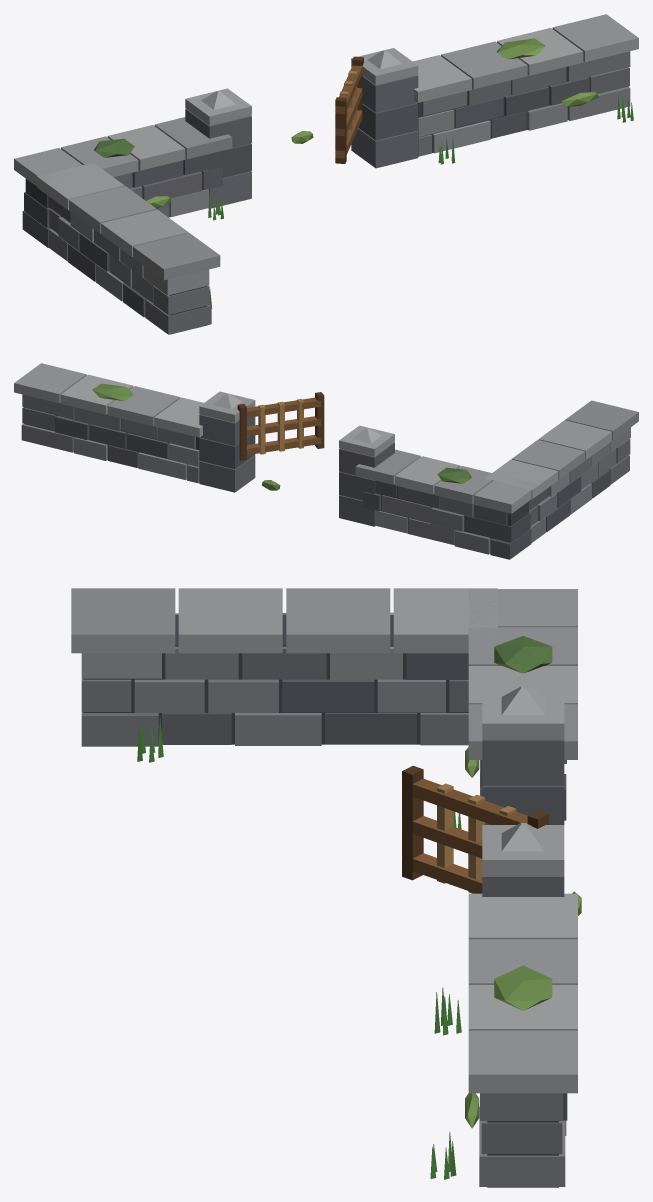
The model's file is Decor_Beanstalk_FieldWall.fbx.
3 renders of one model, top to bottom at view 1: azimuth 30°, elevation 25°; view 2: azimuth 150°, elevation 25°; view 3: azimuth 270°, elevation 25°, orthographic. The views are drawn at different scales.
Parts seen in each view (by area): view 1: FieldWall_Body; view 2: FieldWall_Body; view 3: FieldWall_Body.
Boxes of the visible parts, x1,y1,x2,y2 form: FieldWall_Body: [14, 14, 638, 334]; FieldWall_Body: [14, 363, 638, 559]; FieldWall_Body: [71, 588, 581, 1187].
Bounding box in the file's own units: 33.6 × 5.6 × 14.9.
